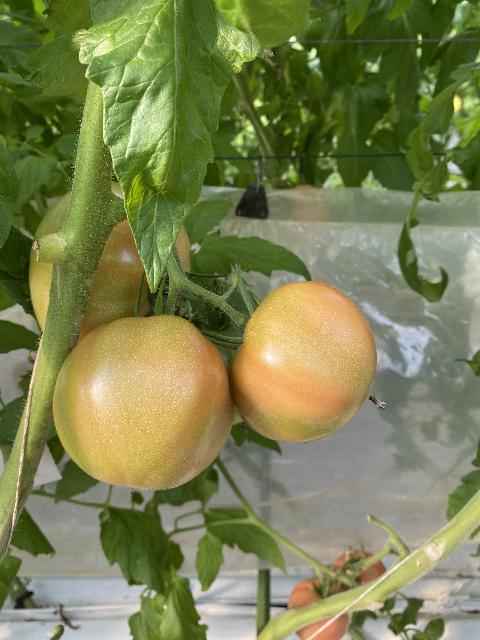b_half_ripened: (51, 314, 233, 490), (29, 180, 190, 351), (228, 280, 377, 443), (287, 577, 353, 639), (331, 551, 386, 592)
